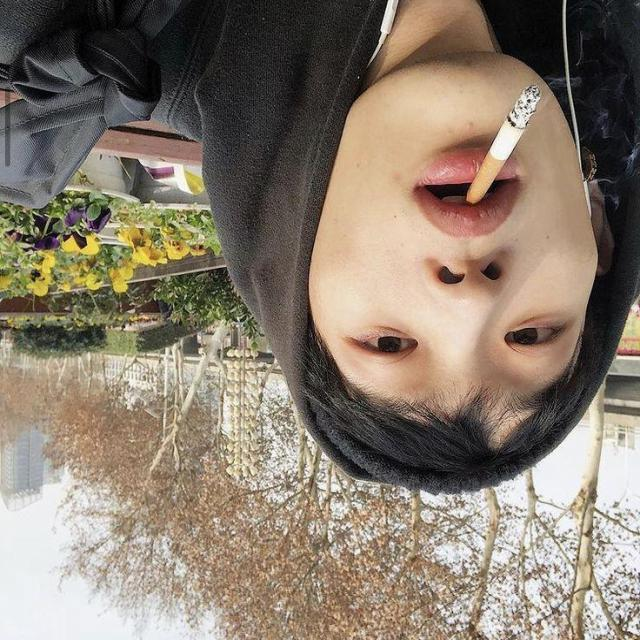cigarette: (457, 56, 558, 208)
